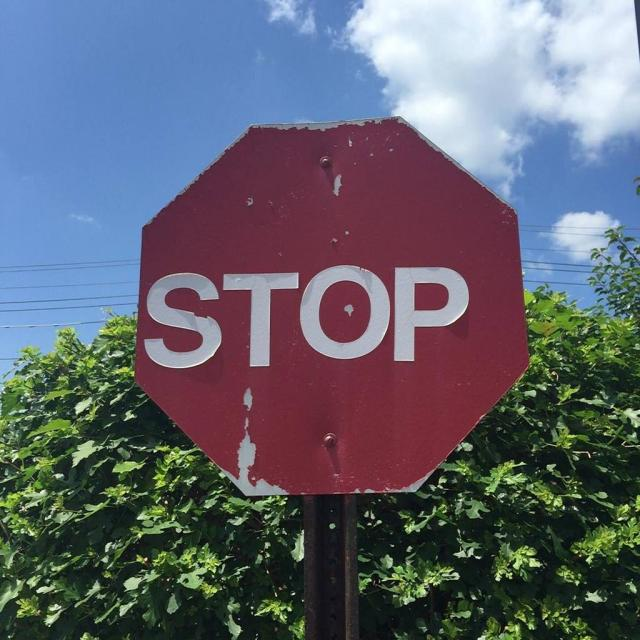Stop-sign: (139, 117, 522, 498)
